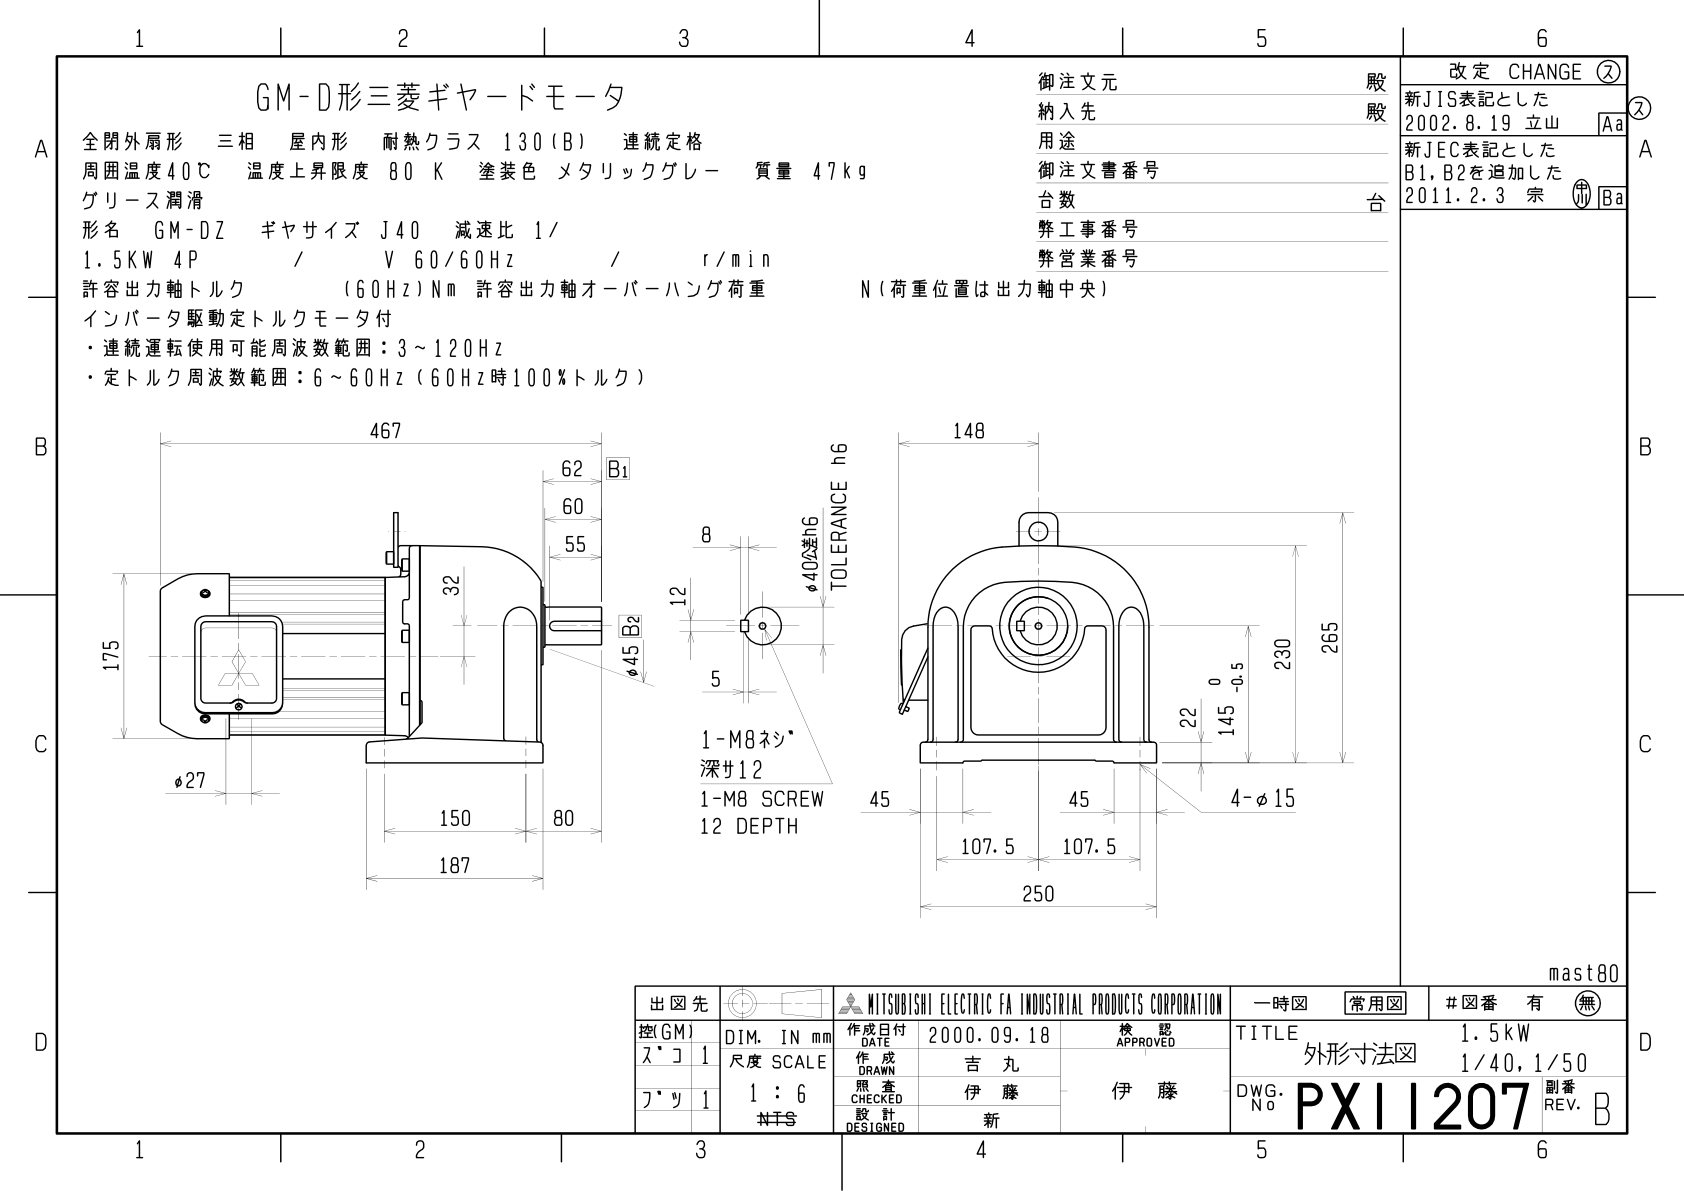GM_D_インバータ屋内_三相_脚: (70, 400, 1370, 944)
